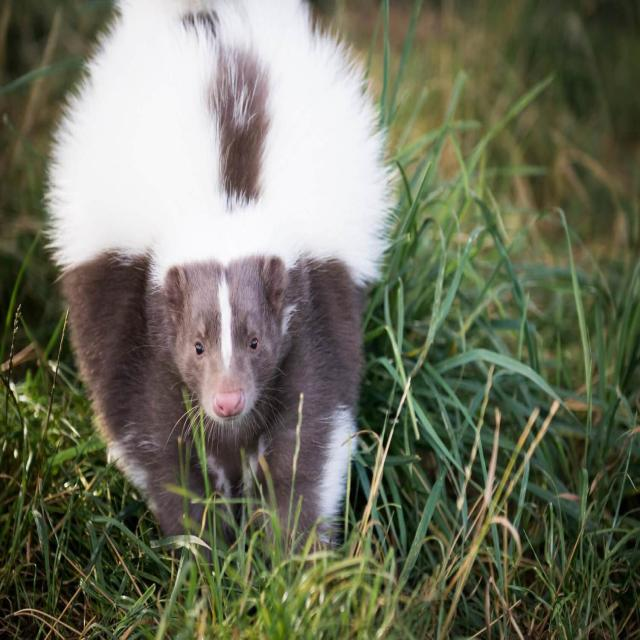Skunk: (48, 0, 399, 575)
